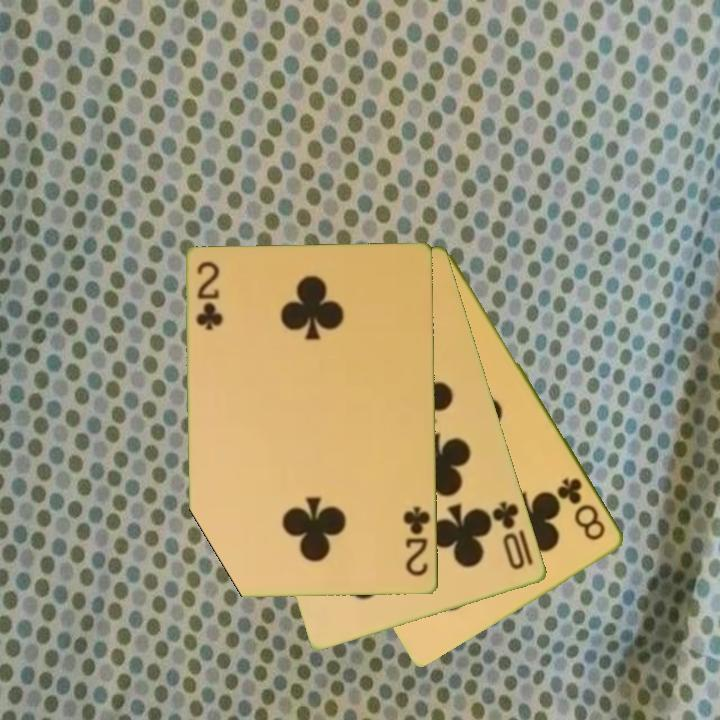10c: (489, 497, 528, 573)
2c: (401, 503, 434, 579), (193, 258, 224, 334)
8c: (554, 474, 609, 544)
